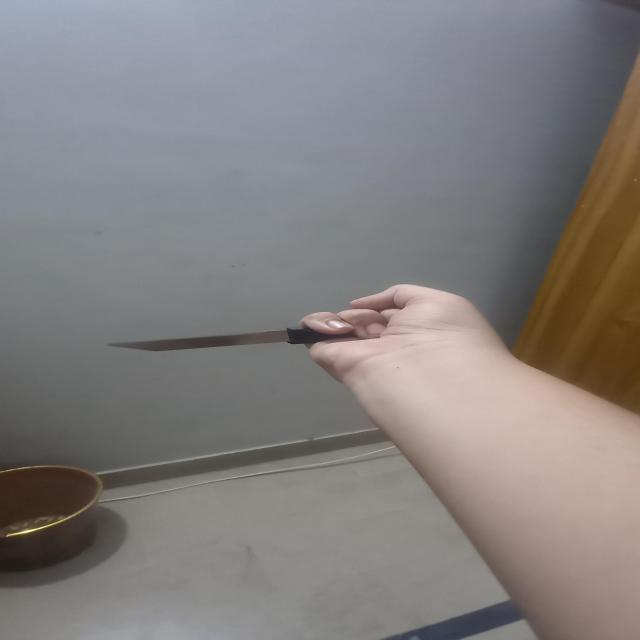Knife: (111, 326, 351, 351)
Person: (305, 285, 640, 640)
